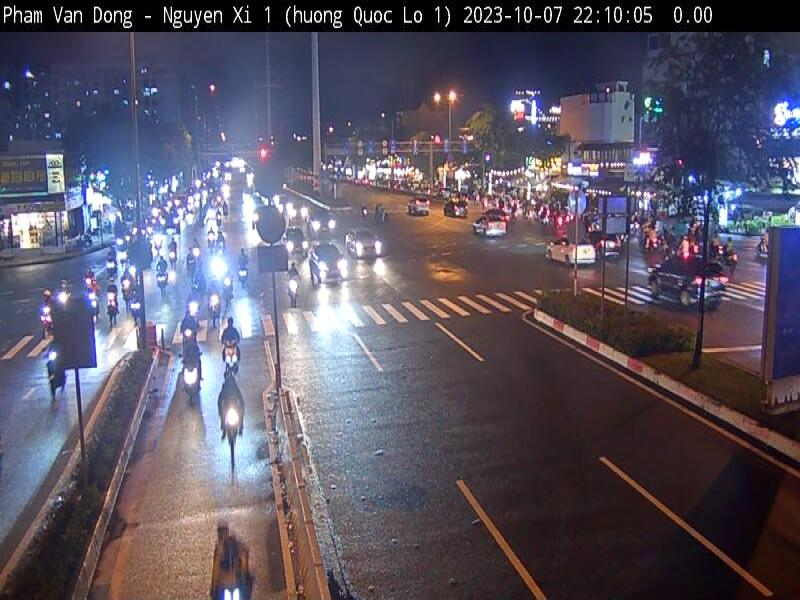car: (649, 255, 727, 314), (545, 237, 598, 266), (310, 241, 342, 284), (344, 229, 381, 259), (474, 215, 508, 240)
